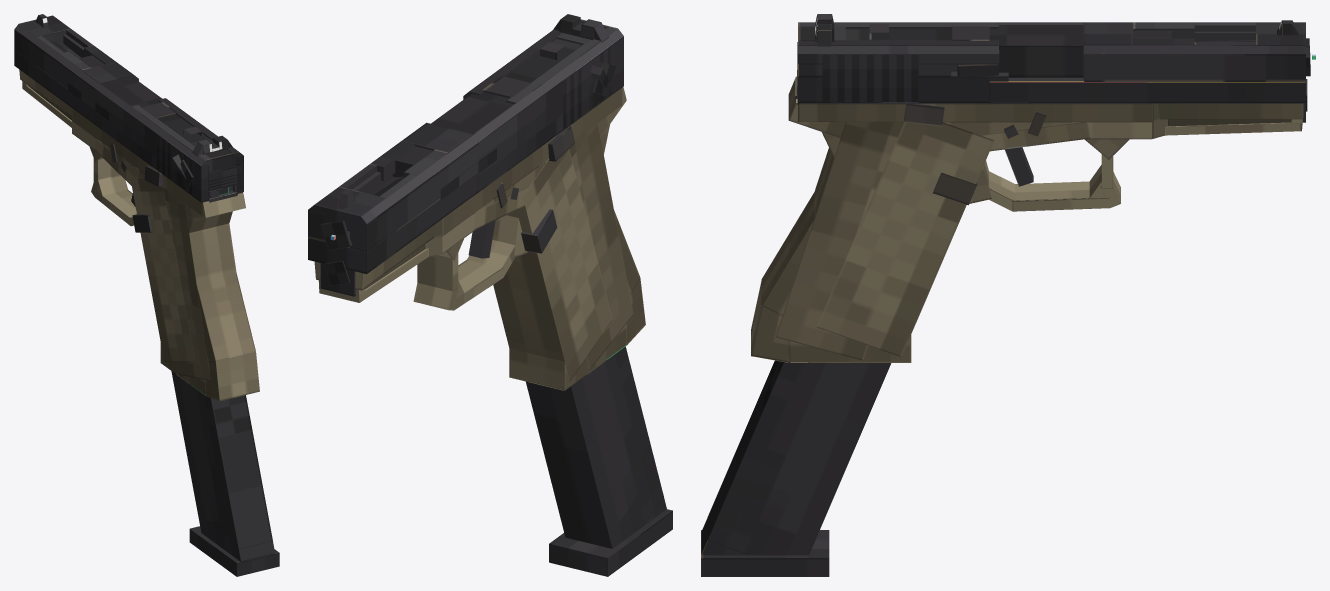
File: glock18.fbx
The picture shows the model from 3 angles, left to right: view 1: azimuth 30°, elevation 25°; view 2: azimuth 150°, elevation 25°; view 3: azimuth 270°, elevation 25°; orthographic projection. The views are drawn at different scales.
Parts seen in each view (by area): view 1: gun, slide, magazine; view 2: gun, slide, magazine; view 3: gun, slide, magazine.
Boxes of the visible parts, box(x1,y1,x2,y2) form: gun: box(19, 41, 259, 401); slide: box(14, 14, 243, 202); magazine: box(139, 170, 279, 576); gun: box(314, 86, 645, 390); slide: box(308, 14, 623, 296); magazine: box(512, 166, 672, 576); gun: box(751, 25, 1310, 362); slide: box(797, 14, 1305, 122); magazine: box(701, 360, 891, 576).
Bounding box in the file's own units: 27.26 × 195 × 200.
